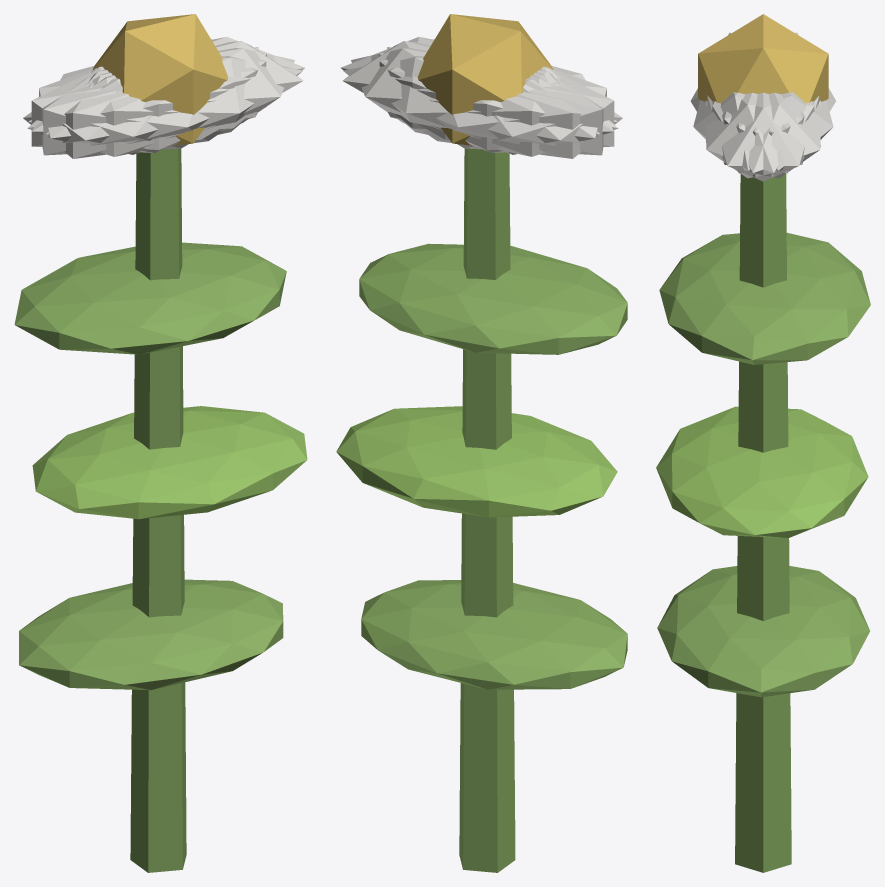
The model's file is dicliptera-chinensis.glb.
The picture shows the model from 3 angles, left to right: view 1: azimuth 30°, elevation 25°; view 2: azimuth 150°, elevation 25°; view 3: azimuth 270°, elevation 25°; orthographic projection.
Visible parts, largest first — view 1: stem, leaf1, leaf2, leaf0, center, petal1, petal6, petal2, petal5, petal7, petal0, petal4 (+2 smaller); view 2: stem, leaf2, leaf1, leaf0, center, petal8, petal3, petal7, petal4, petal2, petal0, petal5 (+2 smaller); view 3: stem, leaf1, leaf2, leaf0, center, petal0, petal4, petal5, petal8, petal1.
Part boxes in pixels (<box>): stem: <box>130,148,186,872</box>; leaf1: <box>32,406,307,519</box>; leaf2: <box>14,242,286,354</box>; leaf0: <box>19,579,283,690</box>; center: <box>92,14,228,145</box>; petal1: <box>27,56,302,156</box>; petal6: <box>23,68,222,158</box>; petal2: <box>42,47,258,155</box>; petal5: <box>46,48,294,149</box>; petal7: <box>31,53,266,152</box>; petal0: <box>92,41,303,140</box>; petal4: <box>28,37,304,131</box>; stem: <box>459,148,515,872</box>; leaf2: <box>359,243,627,354</box>; leaf1: <box>336,406,617,517</box>; leaf0: <box>361,580,627,689</box>; center: <box>417,14,553,145</box>; petal8: <box>343,56,618,156</box>; petal3: <box>423,68,622,158</box>; petal7: <box>387,47,603,155</box>; petal4: <box>351,48,599,149</box>; petal2: <box>379,53,614,152</box>; petal0: <box>342,41,553,140</box>; petal5: <box>340,37,617,131</box>; stem: <box>735,174,791,872</box>; leaf1: <box>656,406,868,537</box>; leaf2: <box>659,232,870,364</box>; leaf0: <box>657,566,869,697</box>; center: <box>698,14,828,103</box>; petal0: <box>707,92,819,181</box>; petal4: <box>712,92,820,178</box>; petal5: <box>705,92,814,178</box>; petal8: <box>722,92,833,170</box>; petal1: <box>693,92,804,170</box>.
Bounding box in the file's own units: 0.1498 × 0.4293 × 0.1008.
